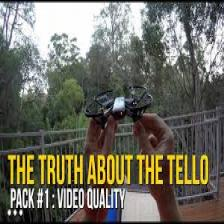drone: (85, 85, 154, 121)
